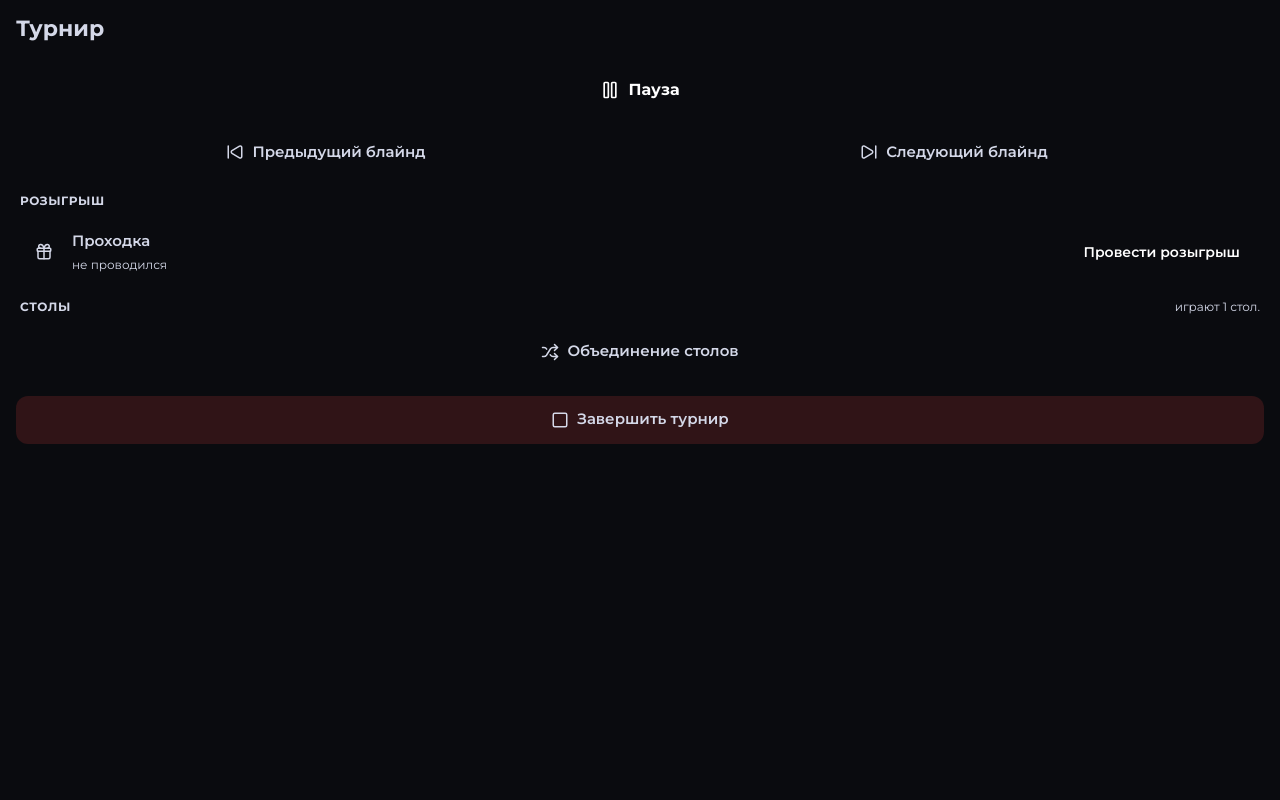
Scenario: TMAControlPage › breaking a table up › offers only the pause while a single table is playing
This screenshot has width=1280, height=800.
What coordinates should you click on to do the following:
click the button "Объединение столов"
I would click on:
 (640, 352)
Its box is [16, 328, 1264, 376].
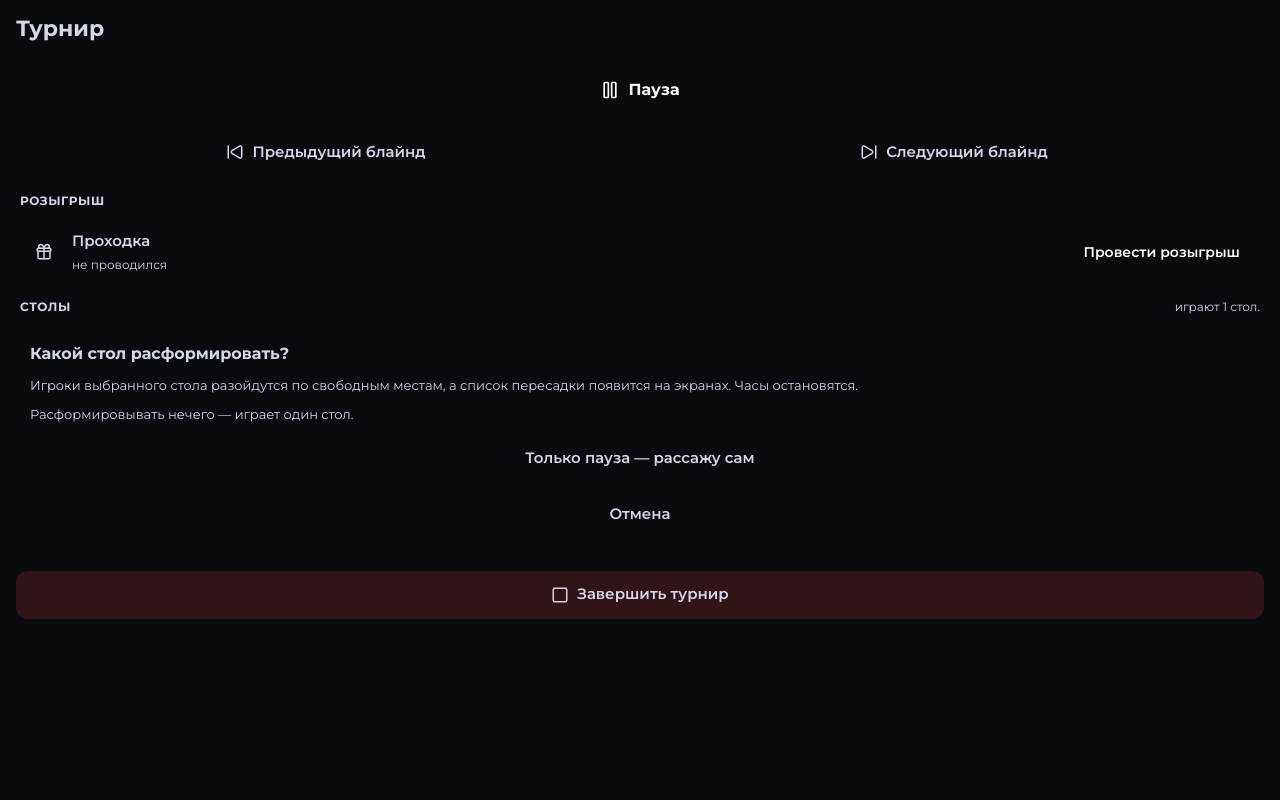
expect the text "Расформировывать нечего — играет один стол." is shown: met, box [30, 406, 354, 422]
